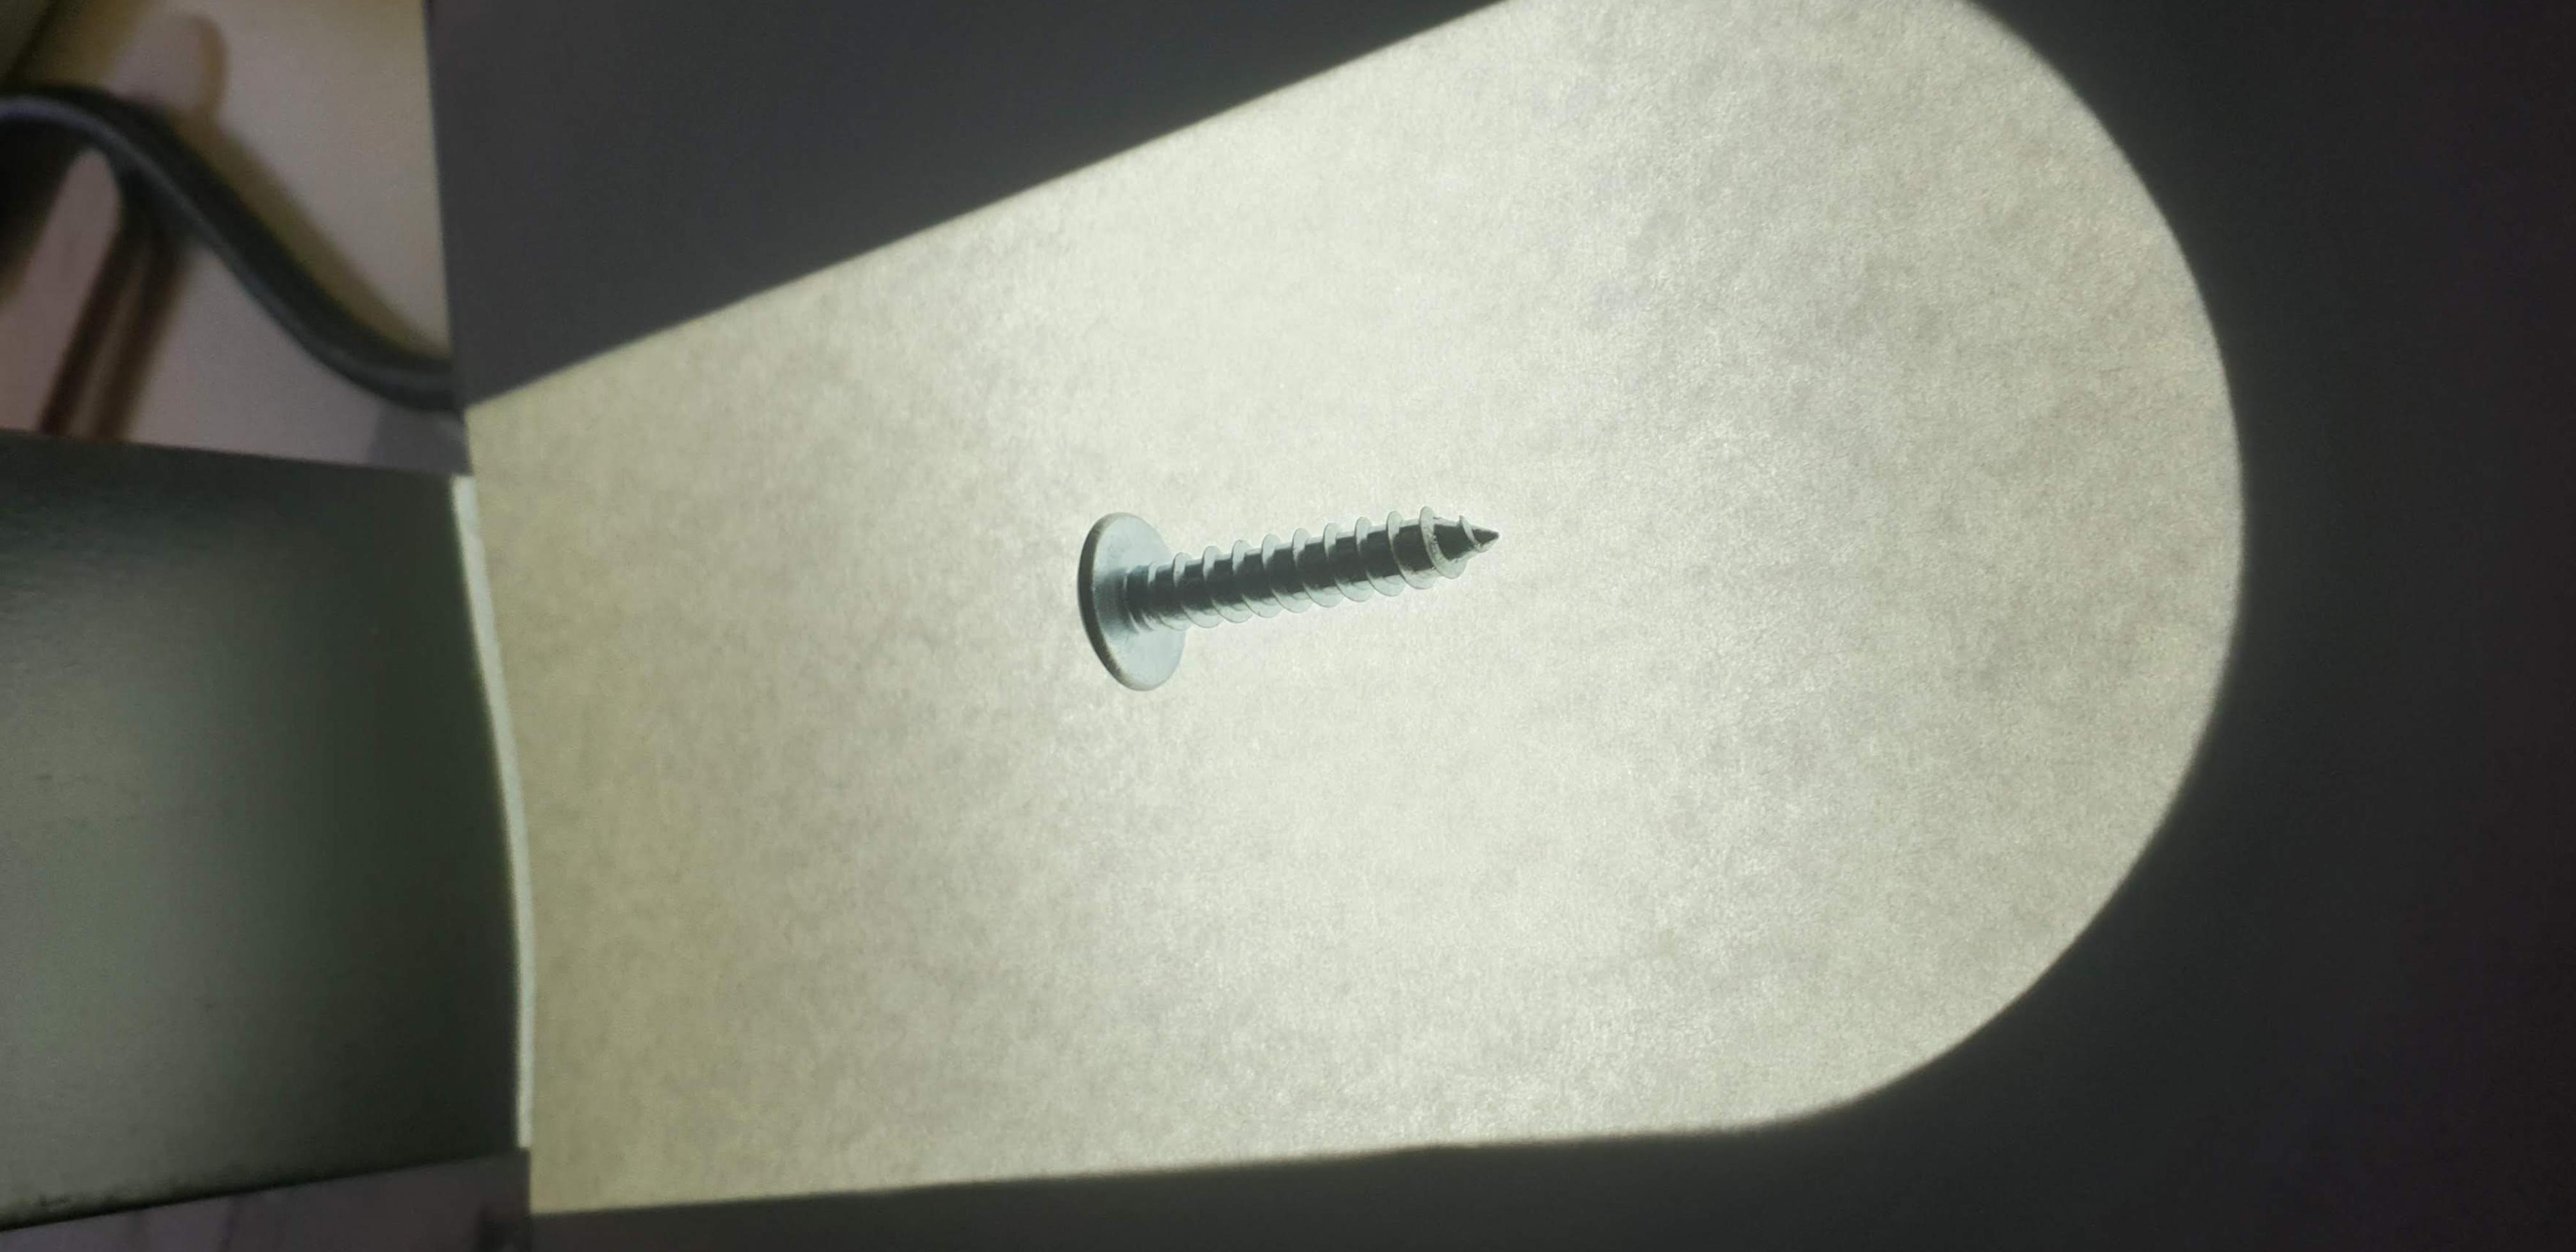S002: (1042, 472, 1543, 718)
